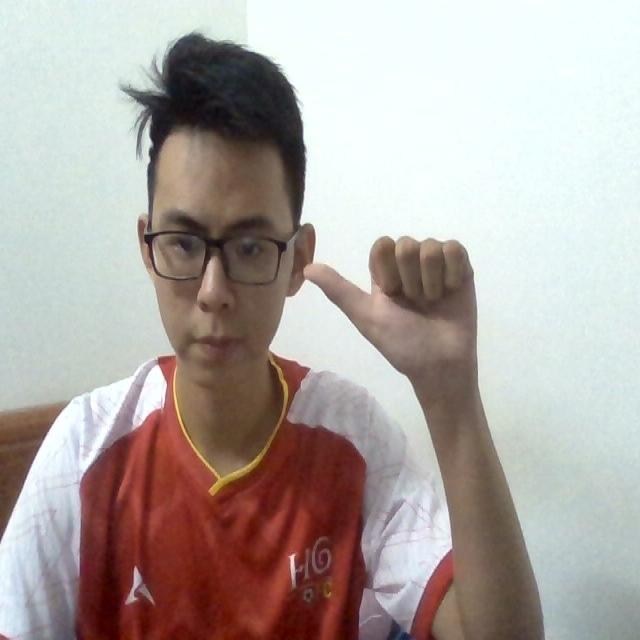A: (302, 225, 478, 378)
